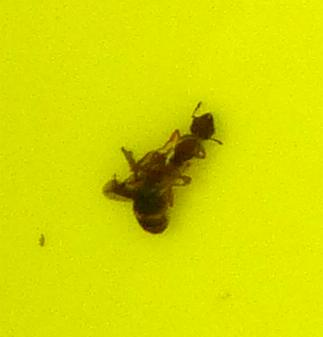Hymenoptera: (100, 100, 223, 237)
